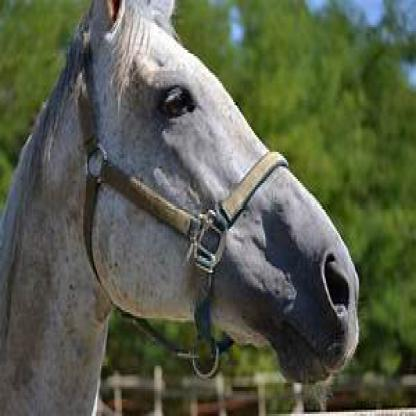horse: (0, 0, 362, 414)
